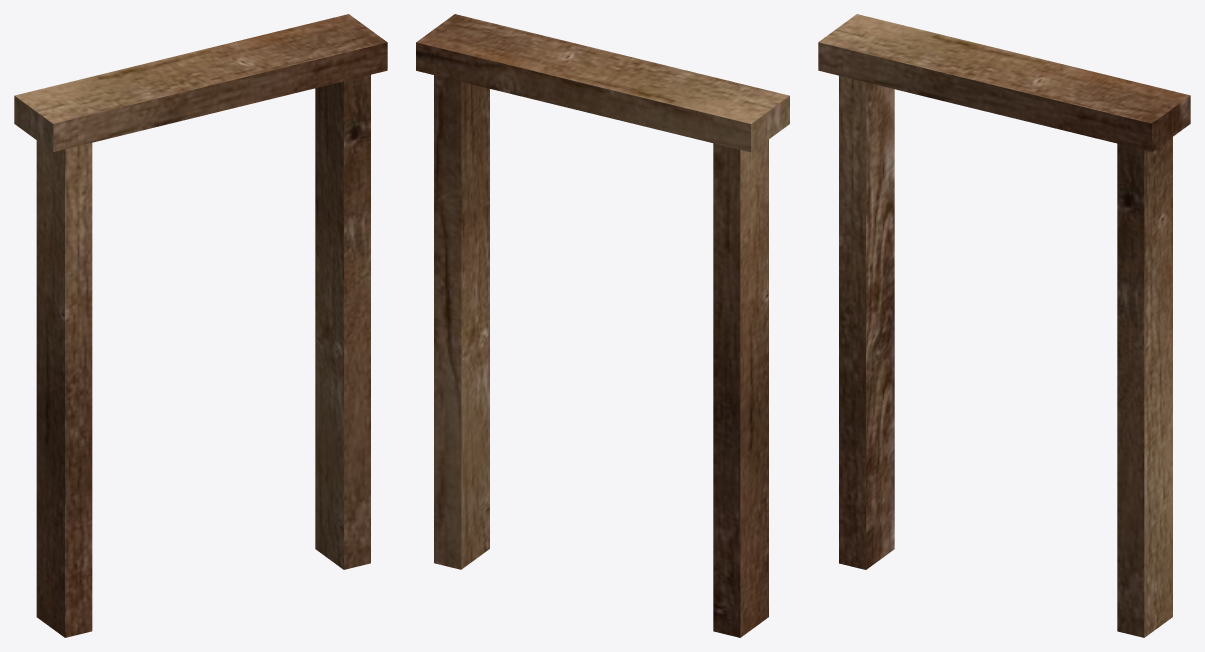
The model's file is rom_frame_door.fbx.
3 views of the same model, side by side, from view 1: azimuth 30°, elevation 25°; view 2: azimuth 150°, elevation 25°; view 3: azimuth 330°, elevation 25° (orthographic).
Parts seen in each view (by area): view 1: polySurface362; view 2: polySurface362; view 3: polySurface362.
Boxes of the visible parts, x1,y1,x2,y2 form: polySurface362: [14, 14, 387, 637]; polySurface362: [416, 14, 789, 637]; polySurface362: [818, 14, 1190, 637].
Size of the model in its own units: 159 by 236 by 31.83.
